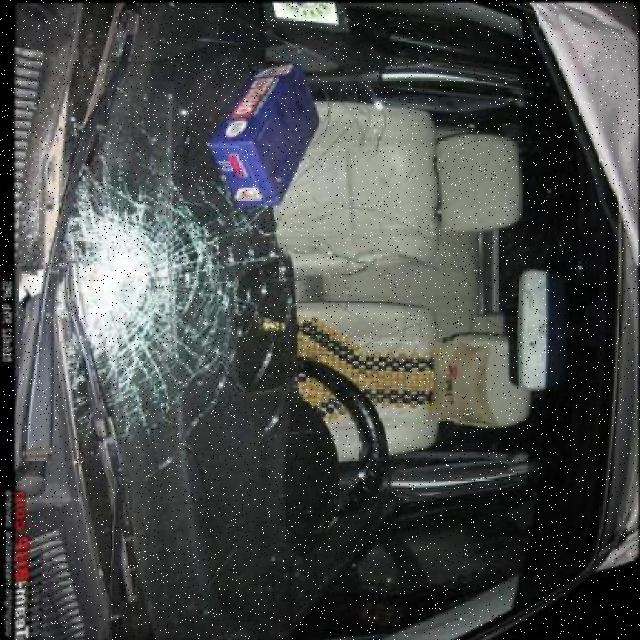damage: (78, 189, 223, 387)
